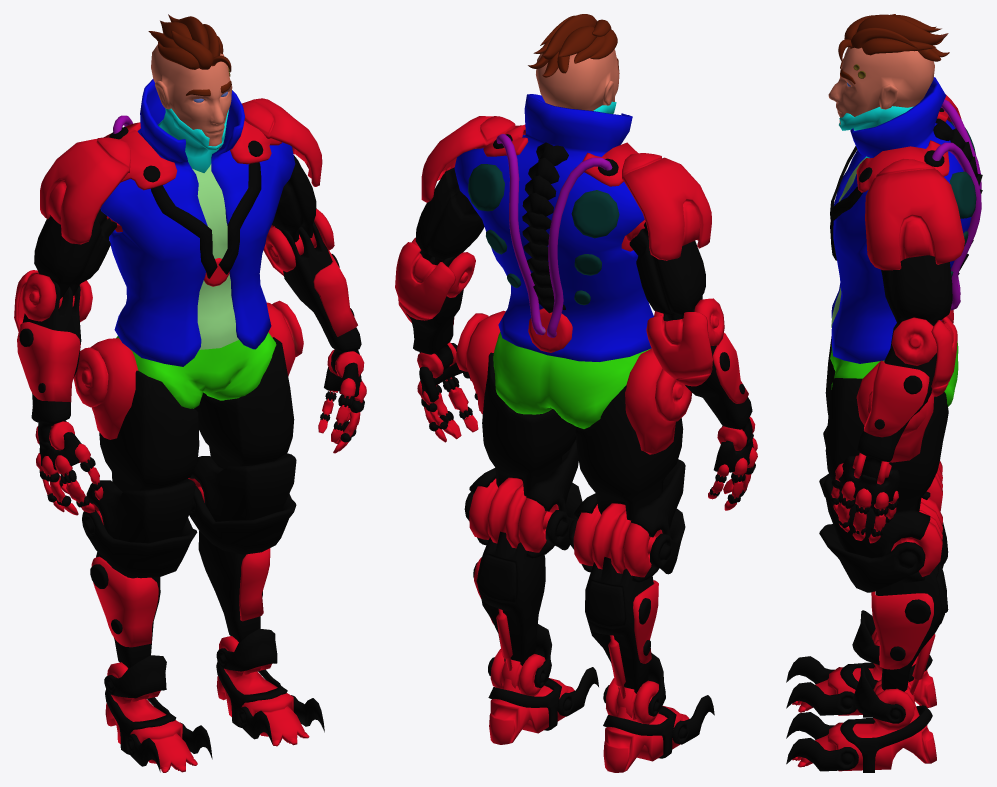
File: Bob.fbx
The picture shows the model from 3 angles, left to right: view 1: azimuth 30°, elevation 25°; view 2: azimuth 150°, elevation 25°; view 3: azimuth 270°, elevation 25°; orthographic projection. The views are drawn at different scales.
Visible parts, largest first — view 1: male body_01; view 2: male body_01; view 3: male body_01.
Part boxes in pixels (x1,y1,x2,y2): male body_01: (14, 14, 366, 772); male body_01: (395, 14, 757, 772); male body_01: (786, 14, 982, 772).
Size of the model in its own units: 89.45 by 188 by 46.32.
